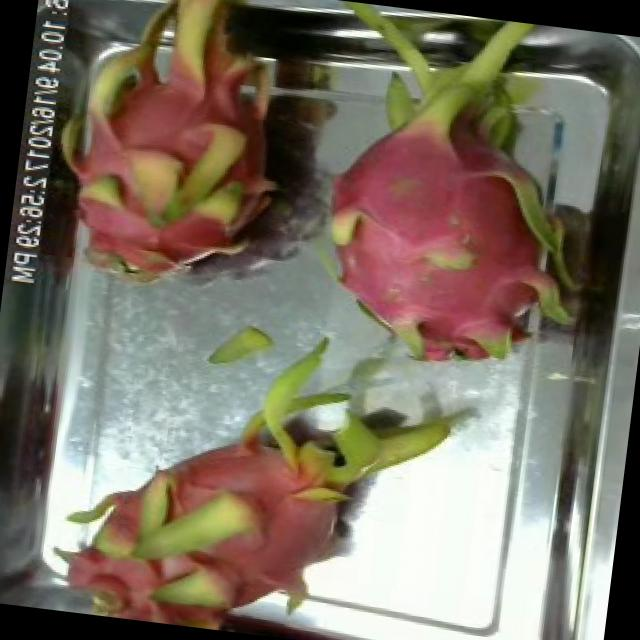Fruit: (243, 72, 359, 202)
